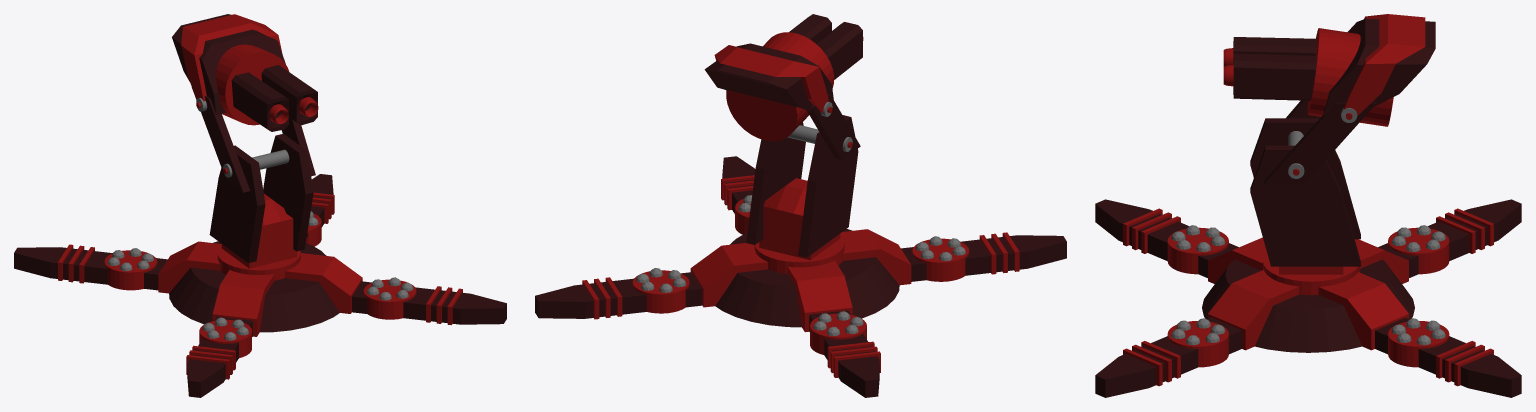
File: Turm 8.fbx
3 views of the same model, side by side, from view 1: azimuth 30°, elevation 25°; view 2: azimuth 150°, elevation 25°; view 3: azimuth 270°, elevation 25° (orthographic). The views are drawn at different scales.
Parts seen in each view (by area): view 1: Cylinder, Cube.006; view 2: Cylinder, Cube.006; view 3: Cylinder, Cube.006.
Part boxes in pixels (x1,y1,x2,y2): Cylinder: (14, 174, 506, 397); Cube.006: (172, 14, 318, 280); Cylinder: (535, 156, 1066, 397); Cube.006: (704, 14, 863, 273); Cylinder: (1095, 199, 1521, 397); Cube.006: (1223, 14, 1435, 295).
Size of the model in its own units: 660 by 476 by 660.
